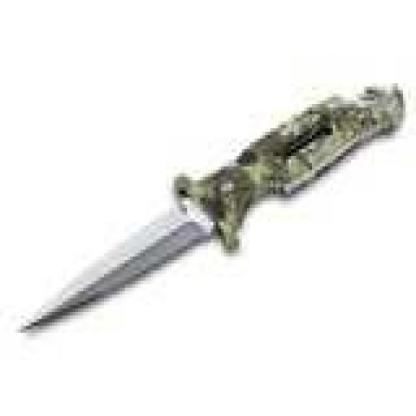Knife: (15, 77, 416, 341)
